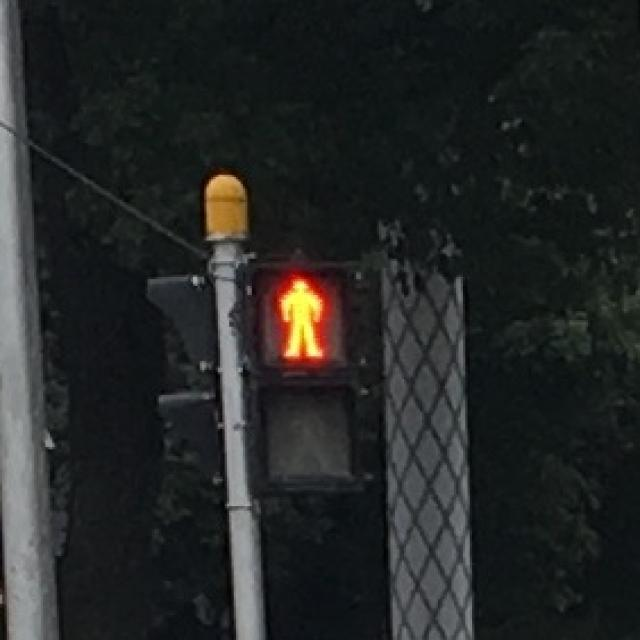red-crossing: (256, 263, 345, 370)
